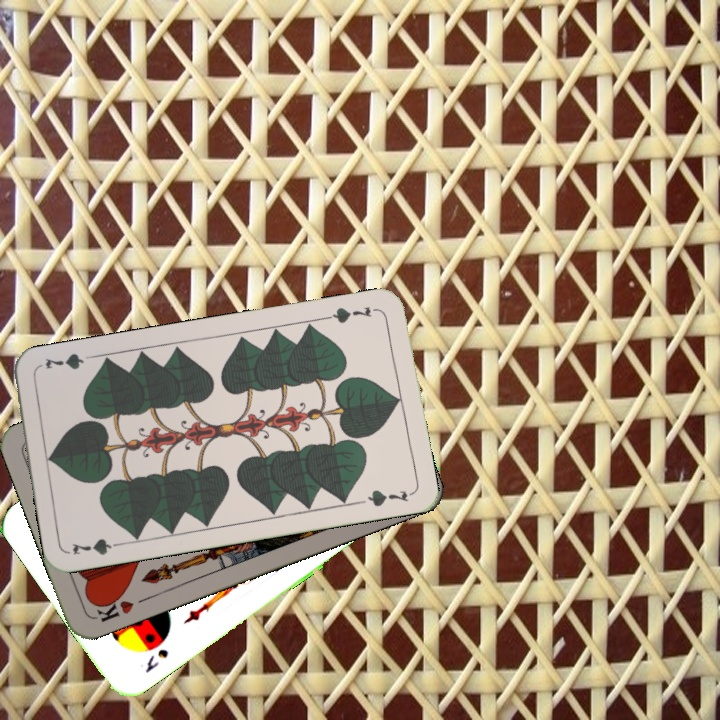G7: (68, 534, 127, 558), (322, 302, 381, 326)
HK: (90, 590, 137, 624)
SK: (141, 645, 171, 676)
